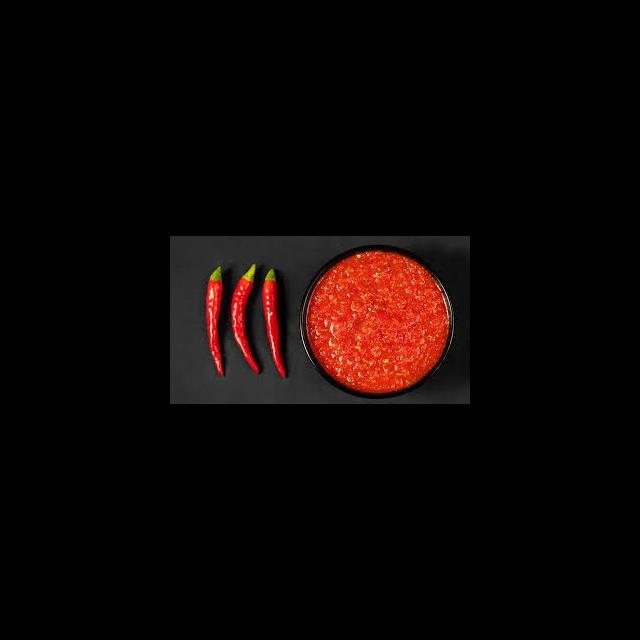chili_pepper: (263, 269, 293, 381), (229, 267, 255, 375), (201, 268, 221, 376)
